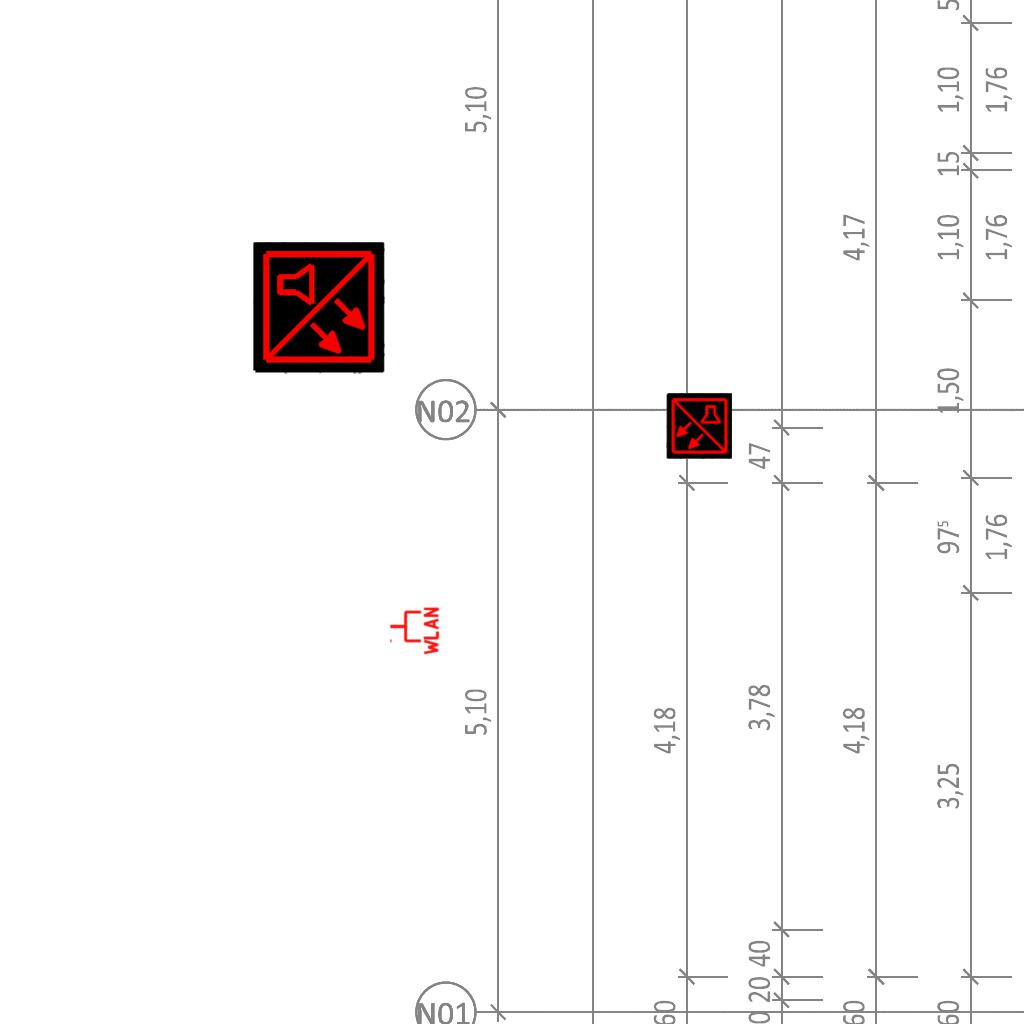OKW_Multisensormelder_(Kombination_optischer_Rauch-Kahlenmonoxid_Waerme-Melder): (253, 242, 385, 374), (666, 393, 732, 459)
WLAN: (388, 605, 440, 657)
